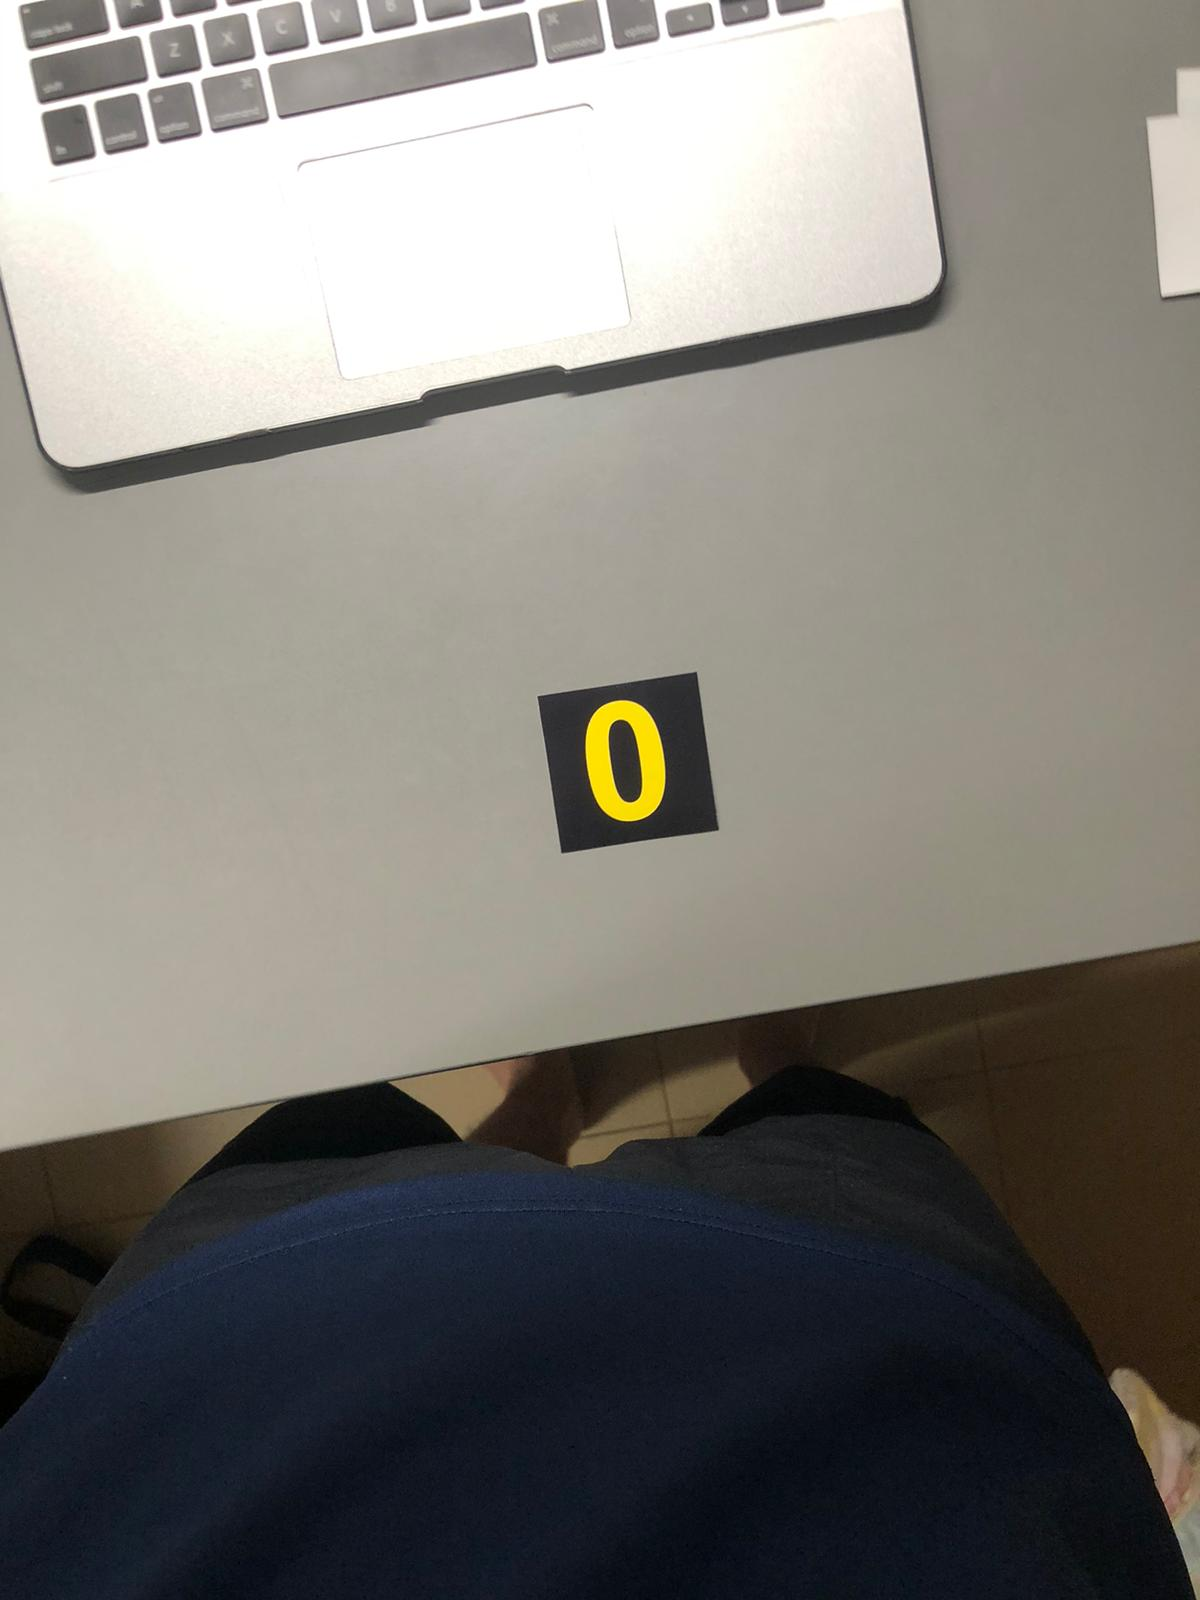Number 0: (539, 684, 711, 837)
